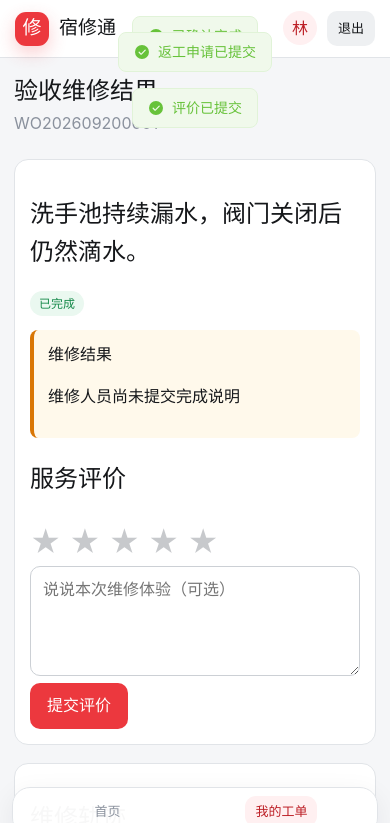
Test: 验收维修结果 › 未选择星级时提交评价提示校验错误
The image size is (390, 823).
What coordinates should you click on to do the following:
click the button with class "submit-rating"
I would click on:
 (79, 706)
Its box is [30, 684, 128, 729].
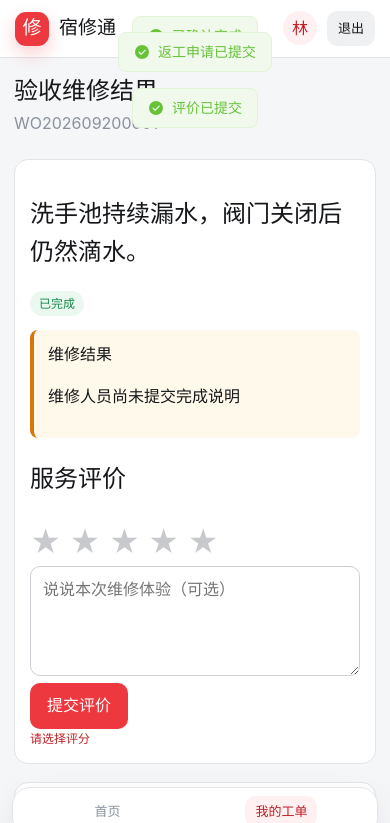
Result: the text "请选择评分" is shown at [30, 731, 90, 746]
